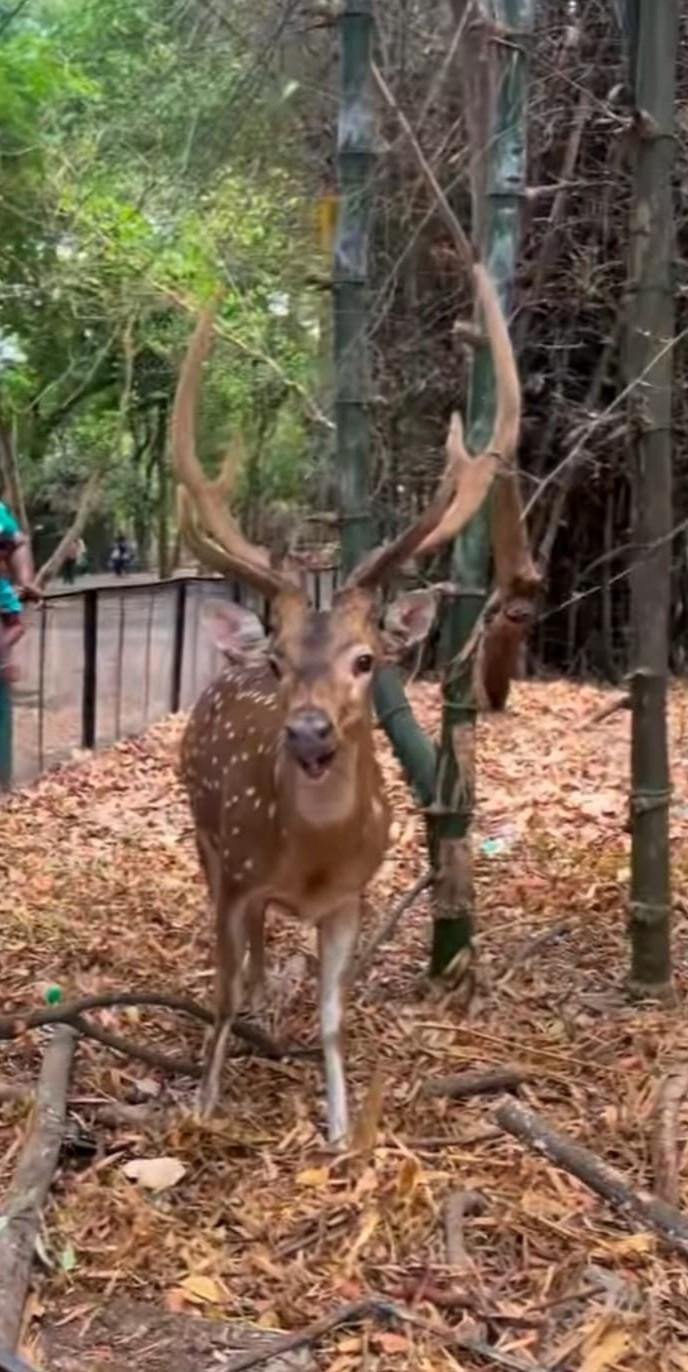Deer: (170, 265, 519, 1146)
